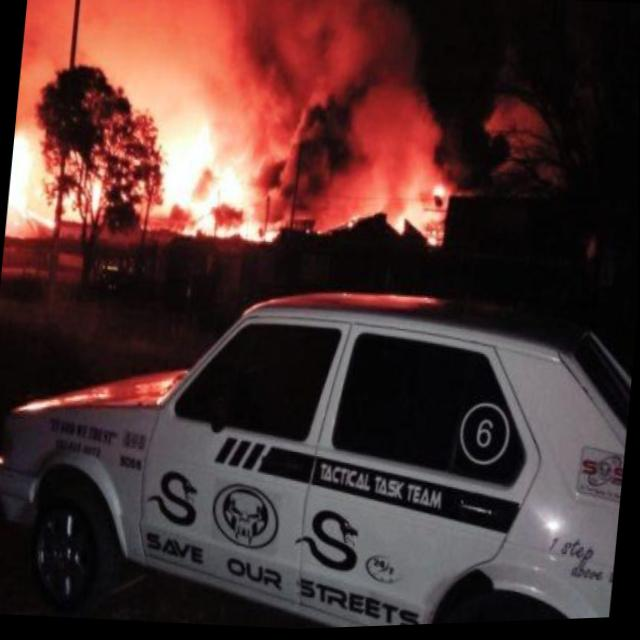fire: (147, 101, 292, 252), (6, 103, 71, 239), (381, 177, 453, 252)
